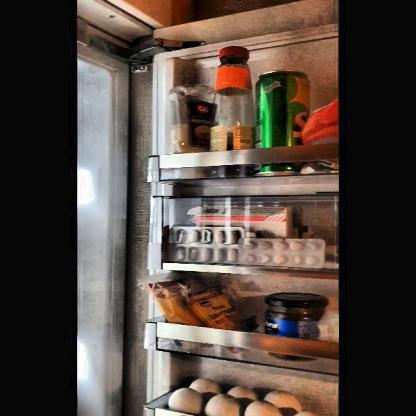eggs: (168, 387, 204, 415), (262, 389, 299, 412), (204, 393, 242, 415), (190, 378, 223, 396), (242, 402, 284, 416), (228, 386, 260, 402)
